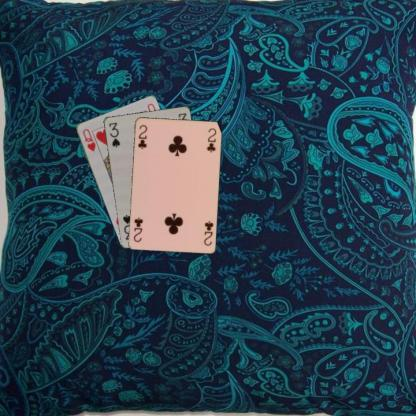2c: (201, 218, 214, 247), (135, 122, 148, 150)
3s: (107, 120, 122, 148)
Qh: (80, 126, 96, 152)
